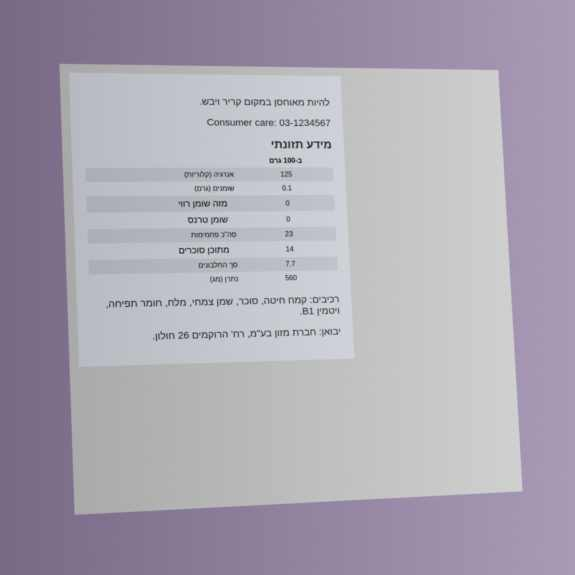carbs: (284, 229, 294, 238)
energy: (279, 170, 293, 179)
fat: (281, 183, 293, 193)
protein: (284, 259, 296, 268)
